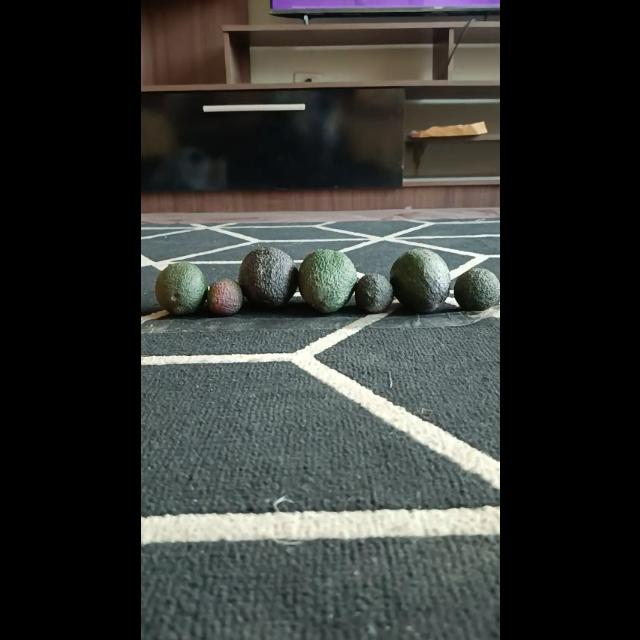Primera: (236, 245, 298, 309), (388, 248, 449, 312), (297, 248, 357, 312)
Segunda: (154, 261, 206, 315)
Tercera: (452, 266, 500, 312), (354, 273, 394, 313), (204, 277, 242, 317)
